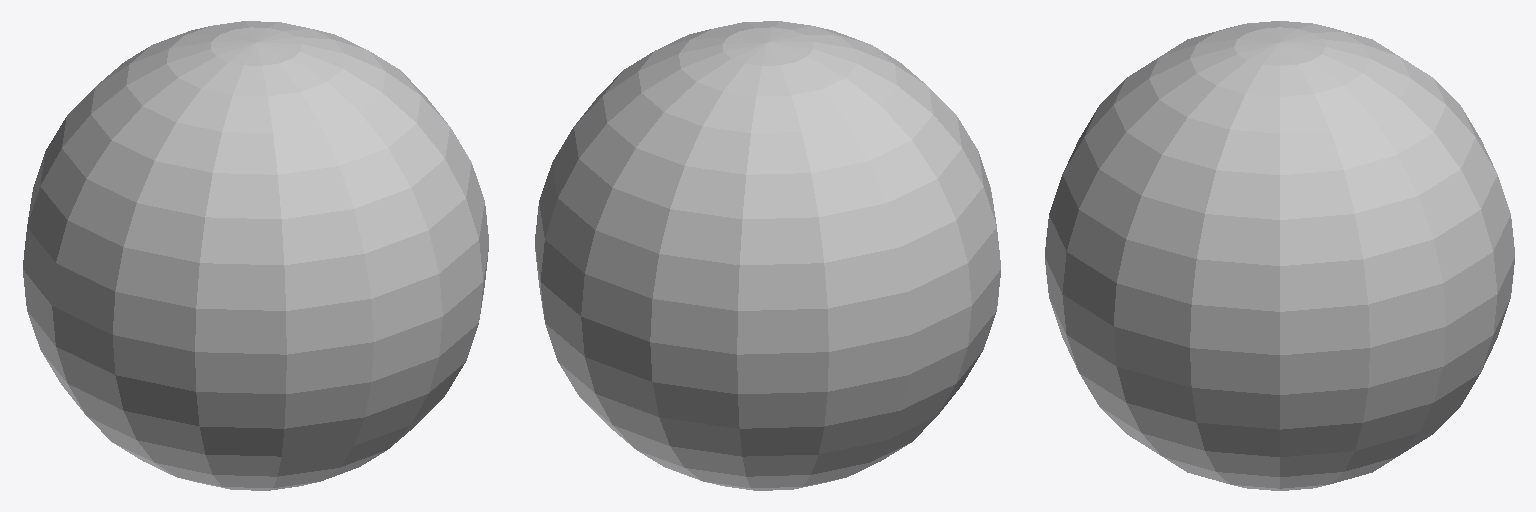
Rendered from ball.obj.
The picture shows the model from 3 angles: view 1: azimuth 30°, elevation 25°; view 2: azimuth 150°, elevation 25°; view 3: azimuth 270°, elevation 25°; orthographic projection.
Visible parts, largest first — view 1: ball_Sphere; view 2: ball_Sphere; view 3: ball_Sphere.
Part boxes in pixels (x1,y1,x2,y2): ball_Sphere: (23,21,488,490); ball_Sphere: (535,21,1000,490); ball_Sphere: (1045,21,1514,490).
Bounding box in the file's own units: 0.2 × 0.2 × 0.2.